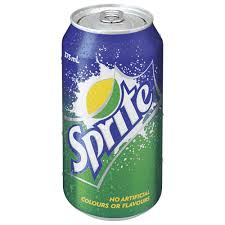can: (59, 3, 165, 220)
